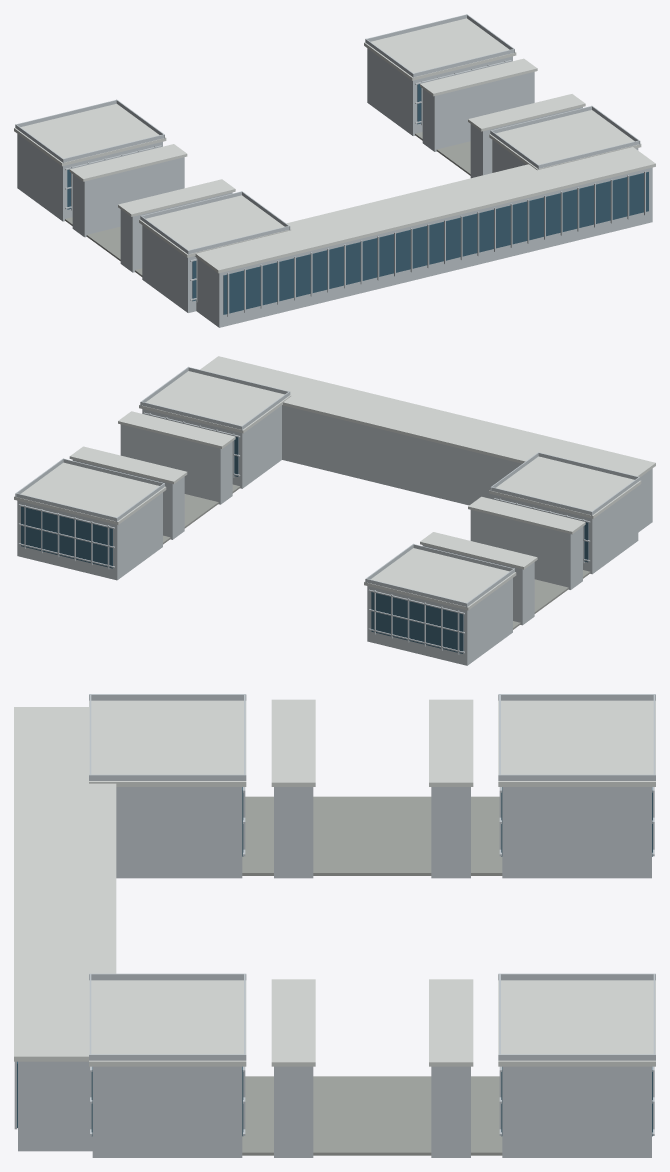
The model's file is clinical_links.glb.
3 renders of one model, top to bottom at view 1: azimuth 30°, elevation 25°; view 2: azimuth 150°, elevation 25°; view 3: azimuth 270°, elevation 25°, orthographic. The views are drawn at different scales.
Parts seen in each view (by area): view 1: ClinicalLink_ivory, ClinicalLink_roof, ClinicalLink_glass, ClinicalLink_stone; view 2: ClinicalLink_ivory, ClinicalLink_roof, ClinicalLink_glass, ClinicalLink_stone; view 3: ClinicalLink_roof, ClinicalLink_ivory, ClinicalLink_stone, ClinicalLink_glass.
Boxes of the visible parts, bbox=[...] form: ClinicalLink_ivory: bbox=[15, 14, 652, 327]; ClinicalLink_roof: bbox=[14, 18, 655, 273]; ClinicalLink_glass: bbox=[67, 84, 648, 314]; ClinicalLink_stone: bbox=[65, 132, 470, 276]; ClinicalLink_ivory: bbox=[15, 366, 652, 665]; ClinicalLink_roof: bbox=[14, 356, 655, 610]; ClinicalLink_glass: bbox=[21, 437, 588, 653]; ClinicalLink_stone: bbox=[163, 484, 590, 629]; ClinicalLink_roof: bbox=[14, 699, 655, 1066]; ClinicalLink_ivory: bbox=[14, 694, 655, 1157]; ClinicalLink_stone: bbox=[242, 796, 502, 1155]; ClinicalLink_glass: bbox=[17, 787, 652, 1136].
Size of the model in its own units: 109 by 14.5 by 81.5.
